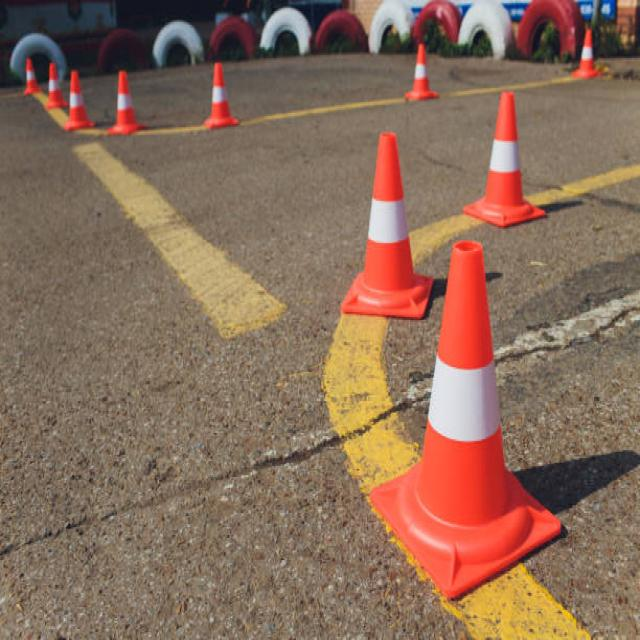Traffic Cone: (362, 213, 570, 622), (335, 106, 440, 336), (466, 71, 548, 239), (394, 17, 440, 122), (192, 49, 243, 141), (105, 62, 144, 152), (572, 5, 605, 94), (61, 68, 94, 141)
